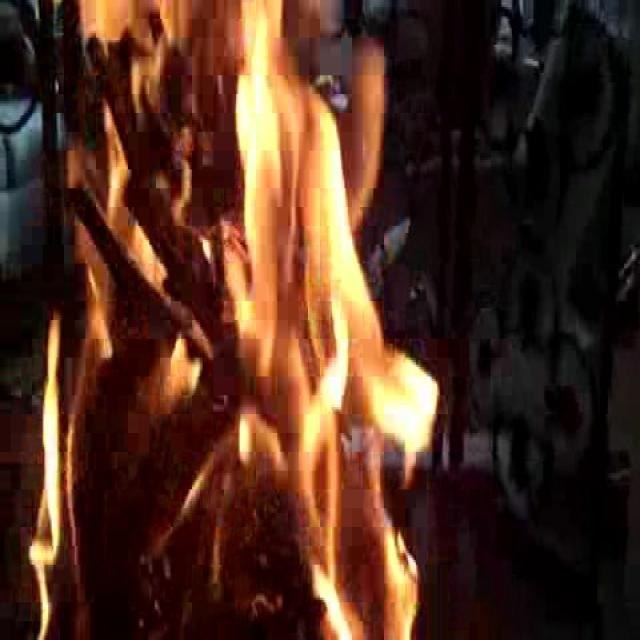fire: (45, 14, 426, 631)
